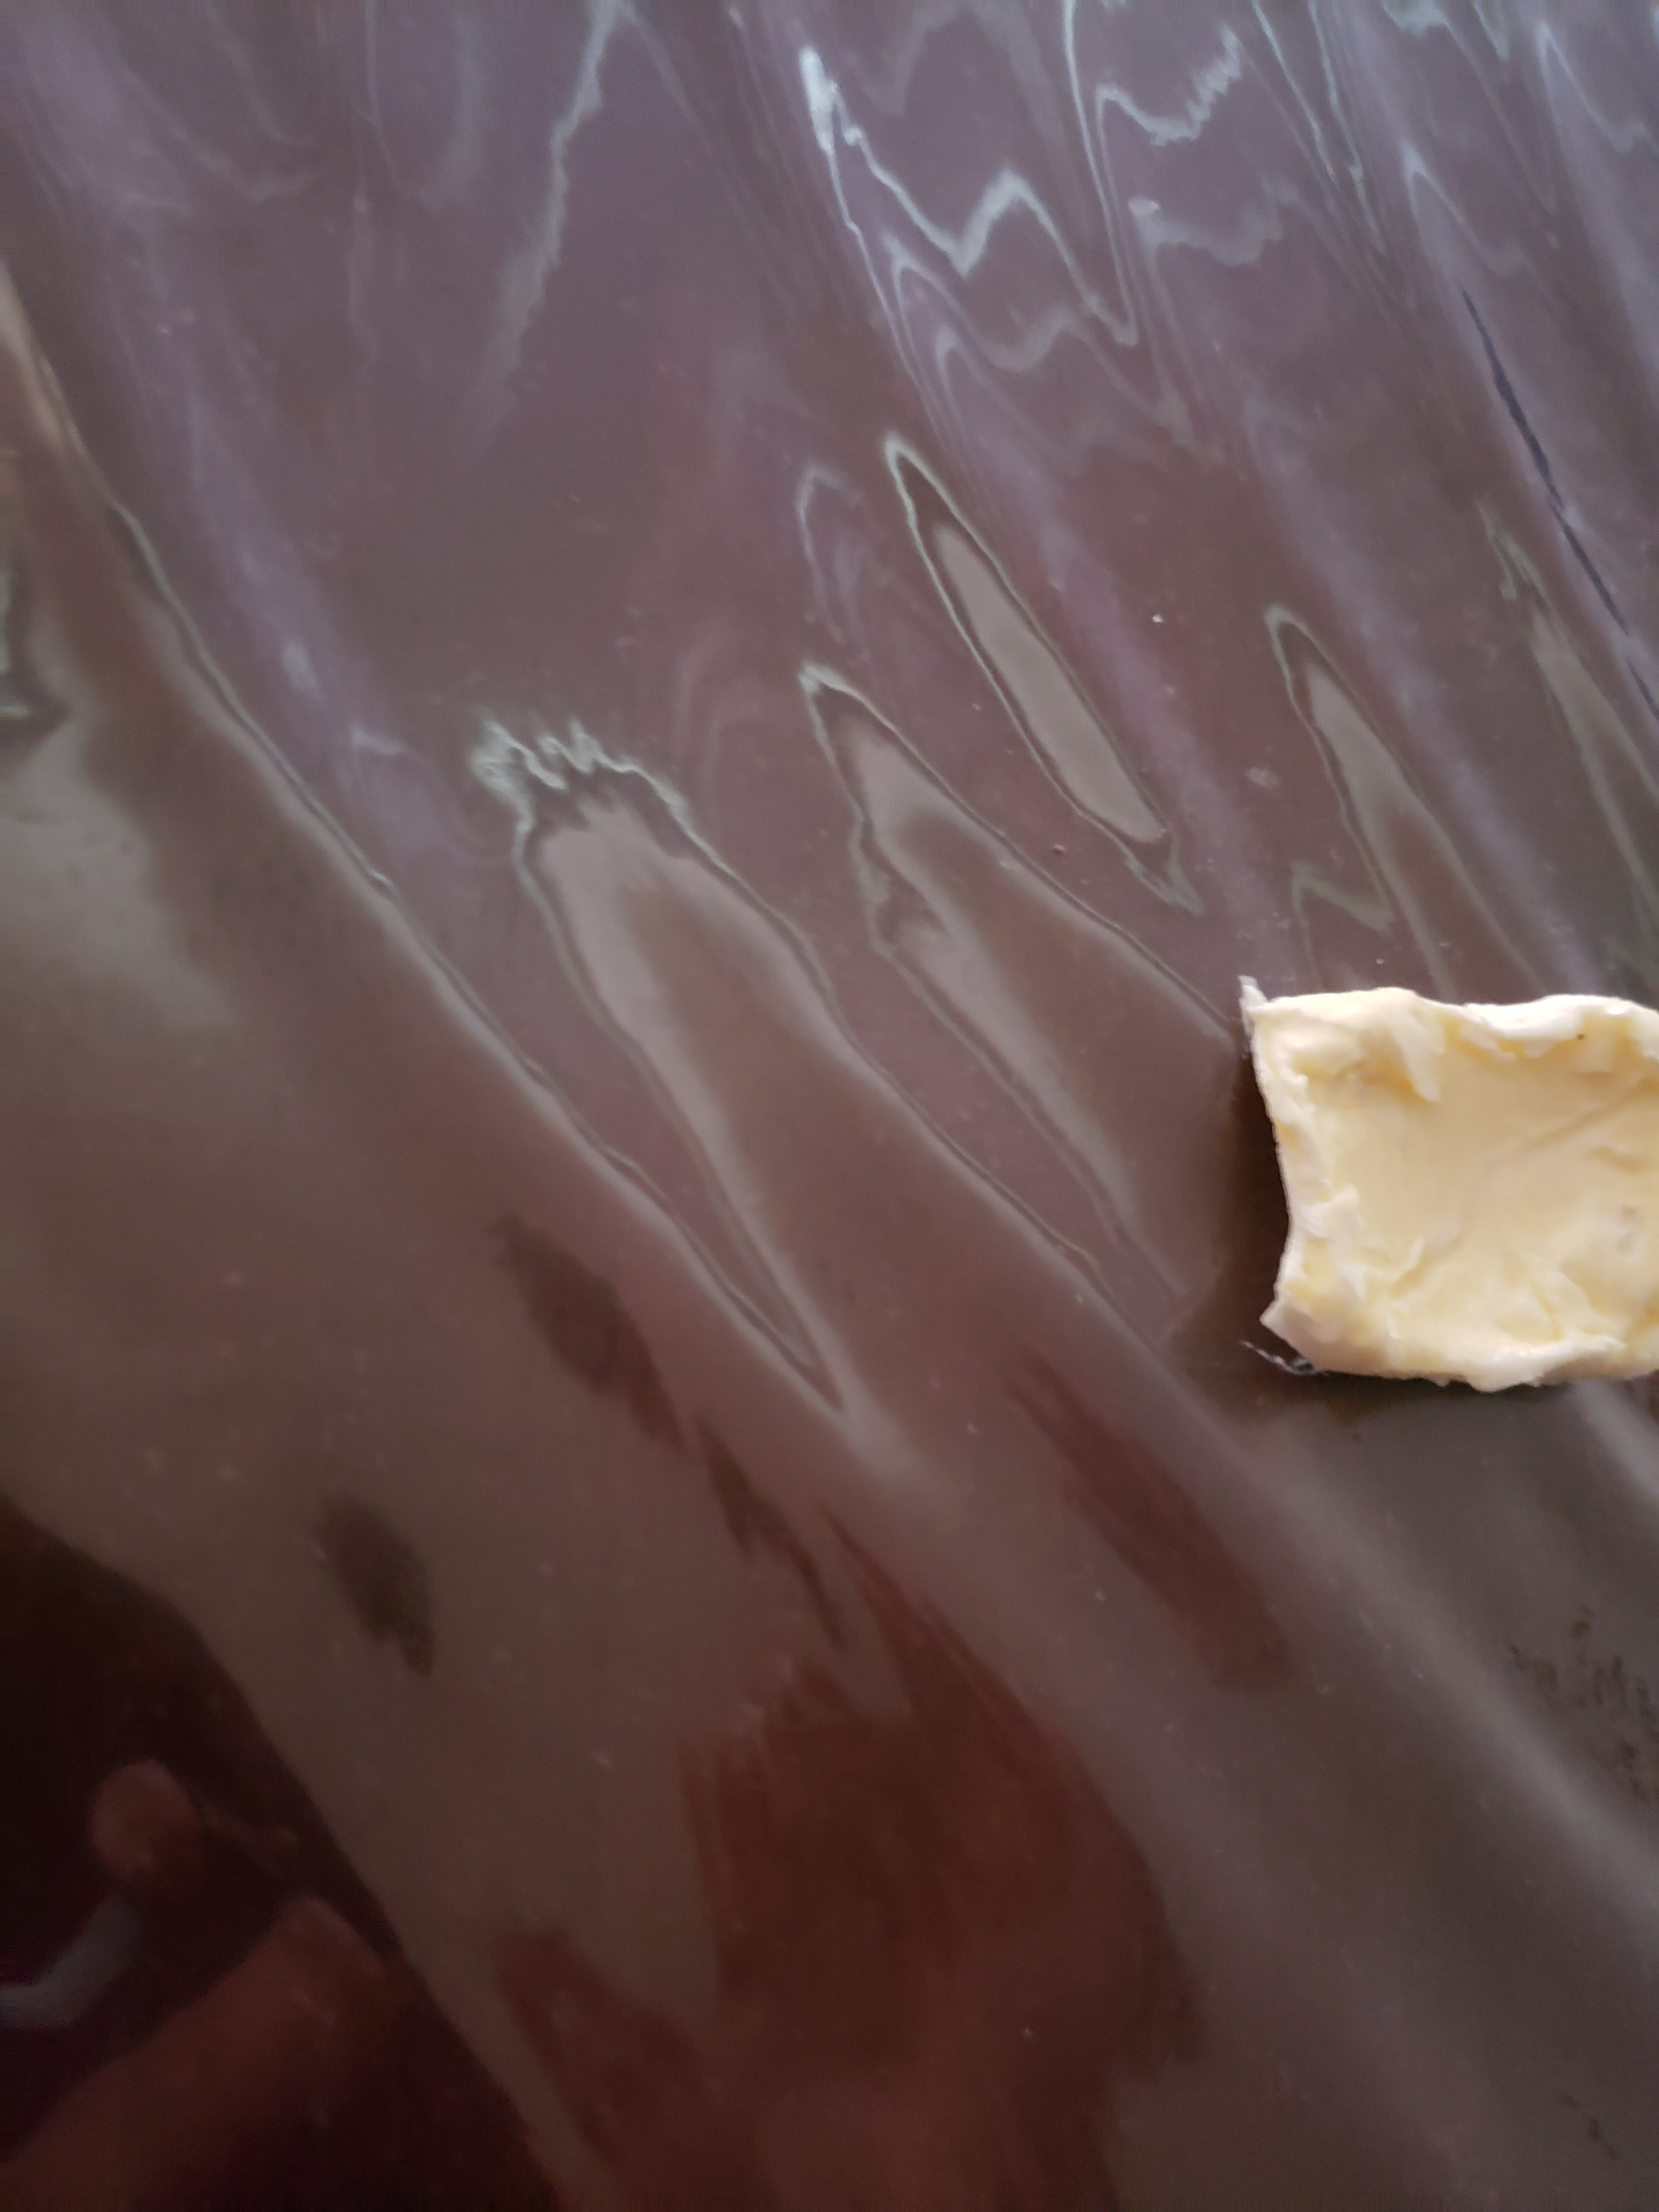Butter: (1227, 975, 1657, 1392)
